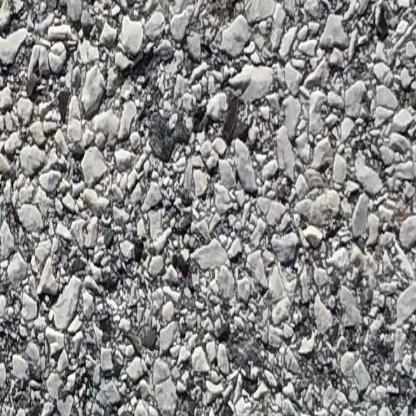Cracks: (179, 0, 272, 17)
